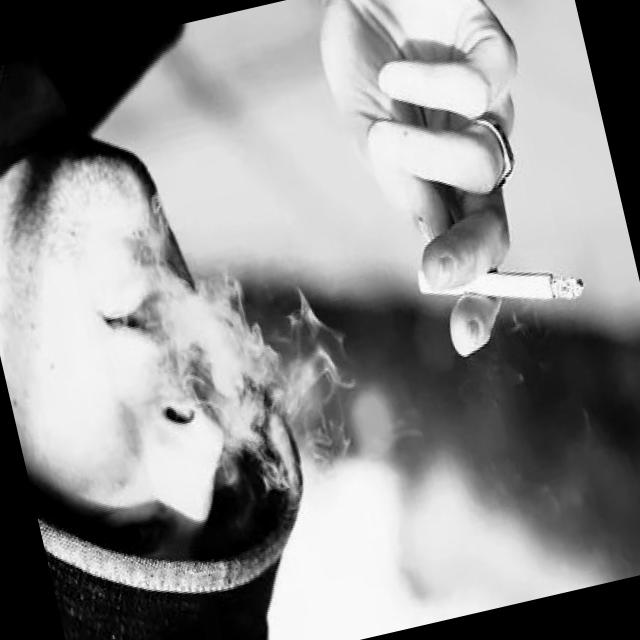smoke: (408, 215, 598, 342)
